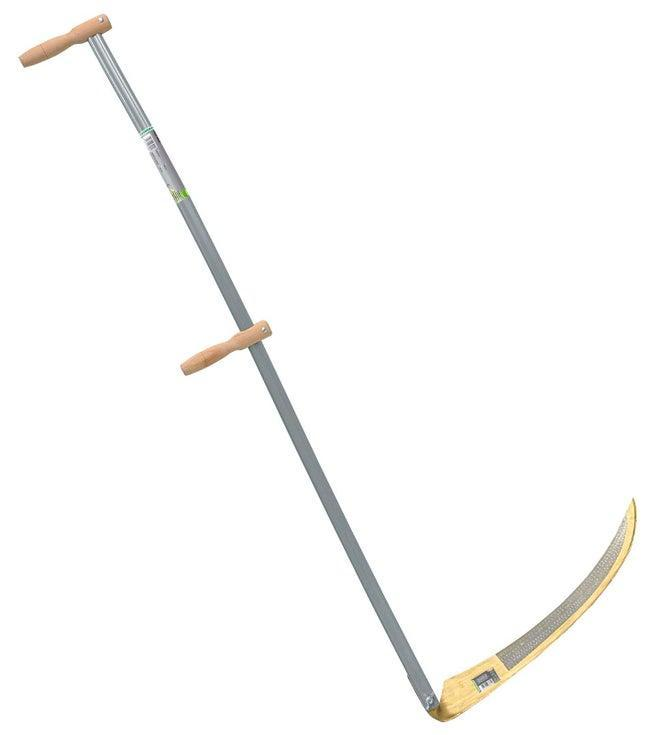foice: (21, 15, 636, 721)
